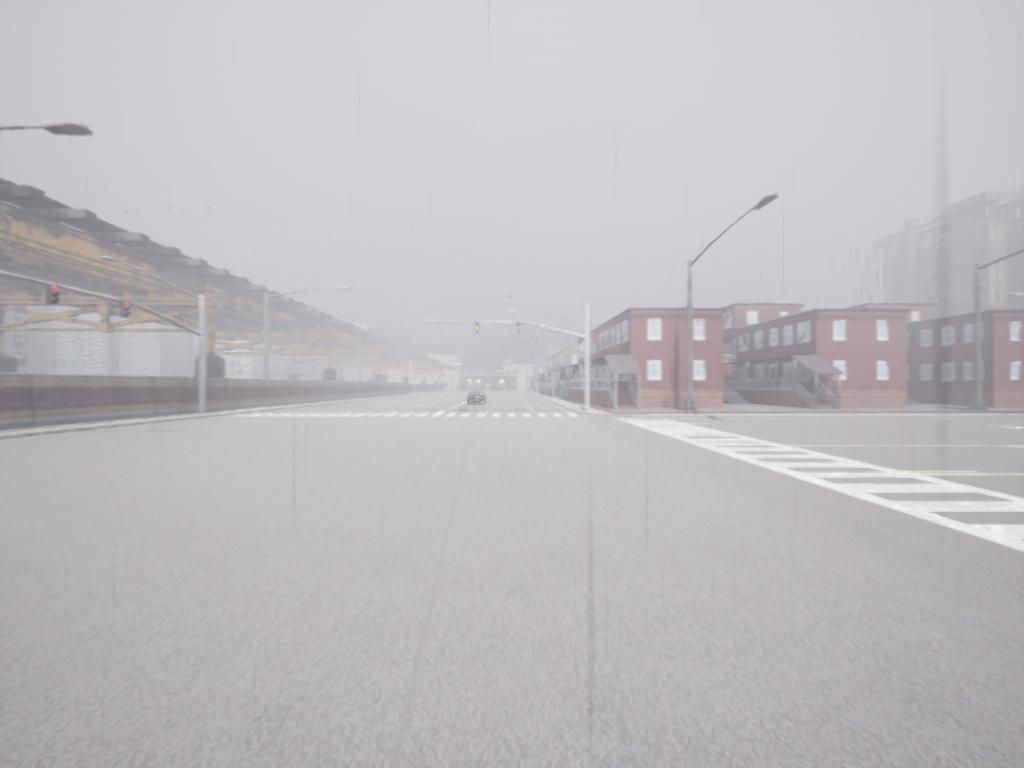traffic_light: (118, 301, 132, 321), (48, 286, 60, 305), (476, 322, 482, 336), (517, 325, 522, 337)
